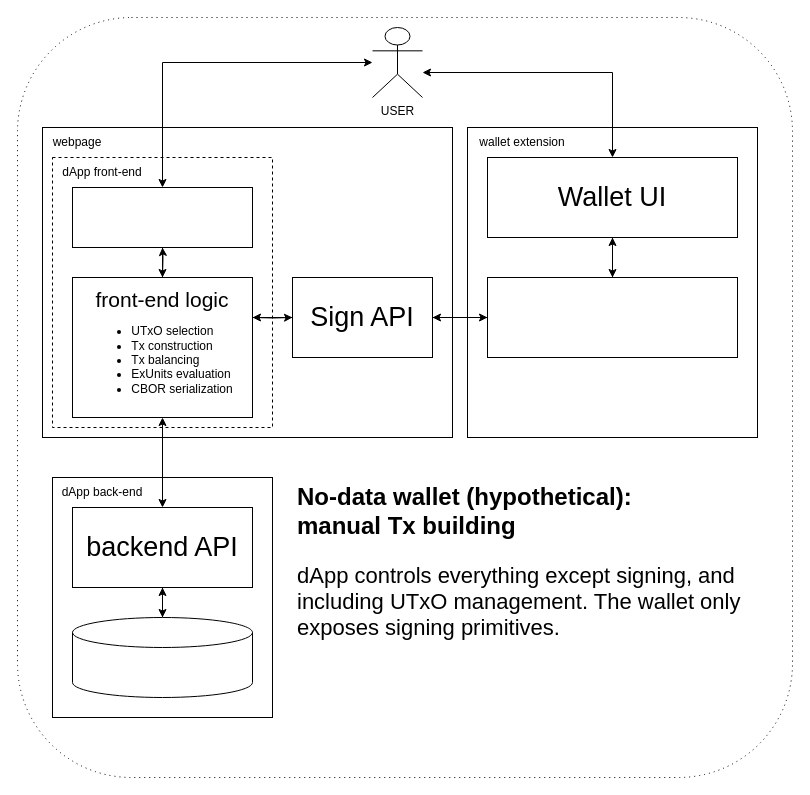
Some shapes in this 810 by 795 pixel diagram are drawn without their labels. Each missing label, with the box of its shape:
cardano-node: (72, 616, 252, 698)
front-end UI: (72, 186, 252, 248)
Sign API Implementation: (486, 276, 738, 358)
